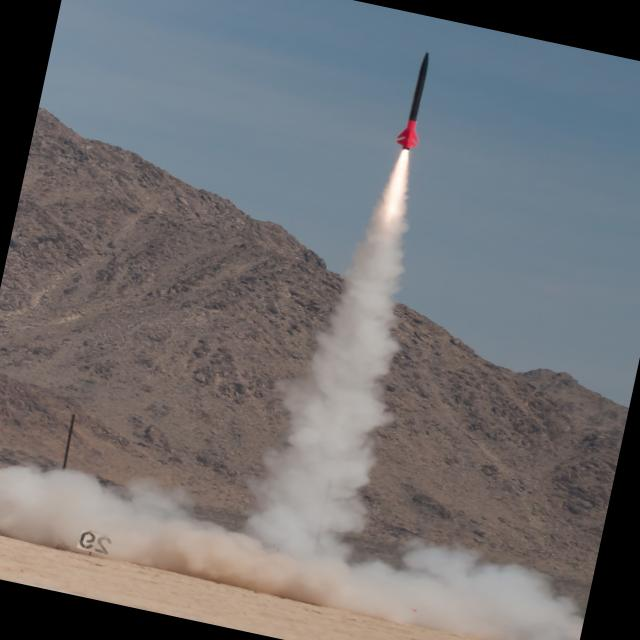rocket: (360, 41, 440, 283)
